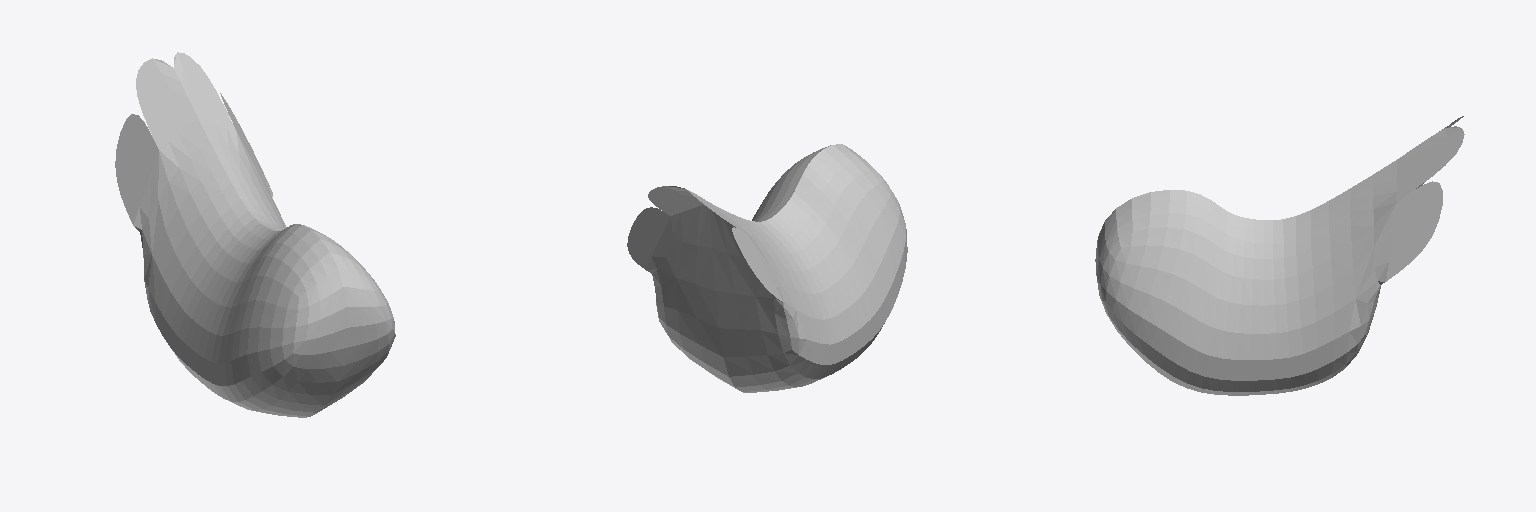
File: Gallina_Cuerpo.obj
The picture shows the model from 3 angles: view 1: azimuth 30°, elevation 25°; view 2: azimuth 150°, elevation 25°; view 3: azimuth 270°, elevation 25°; orthographic projection.
Parts seen in each view (by area): view 1: Cuerpo_Cube.008; view 2: Cuerpo_Cube.008; view 3: Cuerpo_Cube.008.
Part boxes in pixels (left/top/right/bottom): Cuerpo_Cube.008: left=115, top=52, right=395, bottom=417; Cuerpo_Cube.008: left=627, top=144, right=907, bottom=392; Cuerpo_Cube.008: left=1095, top=116, right=1464, bottom=395.
Bounding box in the file's own units: 0.1583 × 0.2745 × 0.3431.